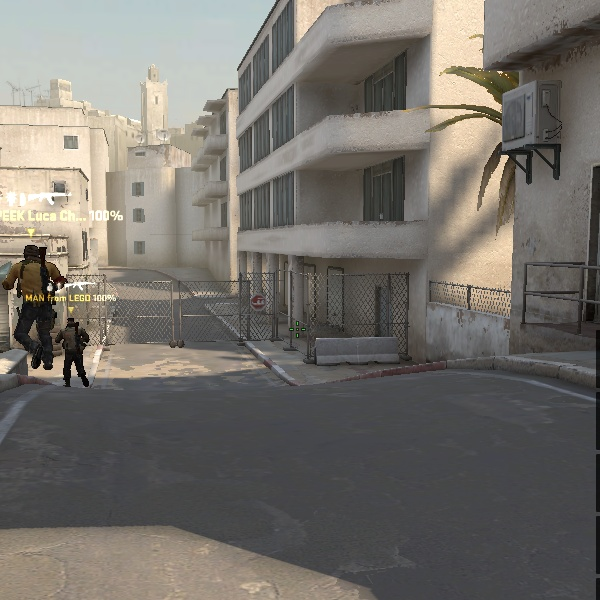t_body: (3, 245, 63, 369), (55, 317, 89, 389)
t_head: (24, 245, 39, 267), (67, 317, 75, 328)
